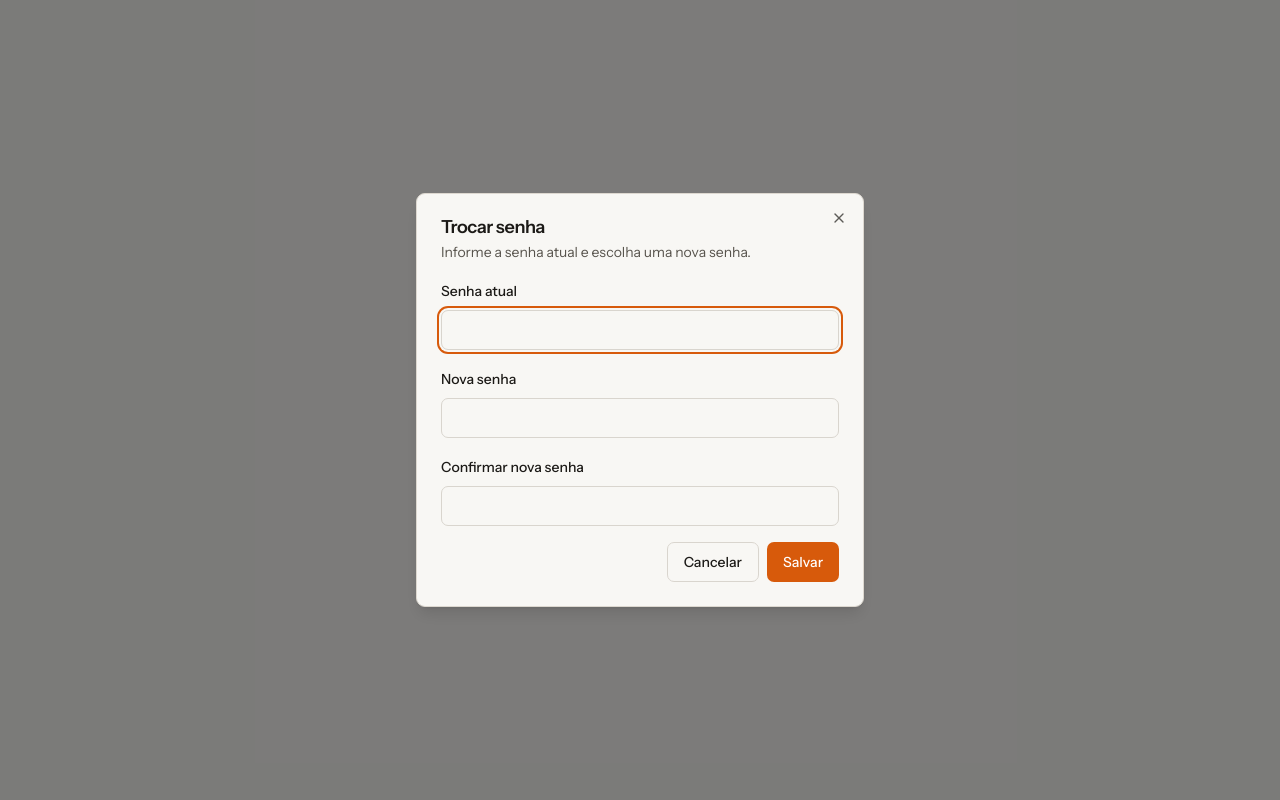
Scenario: TrocarSenhaDialog › 422: mapeia erro no campo senhaAtual
Type "atual123" into the password field labelled "Senha atual" at (640, 330), box [441,310,839,350]
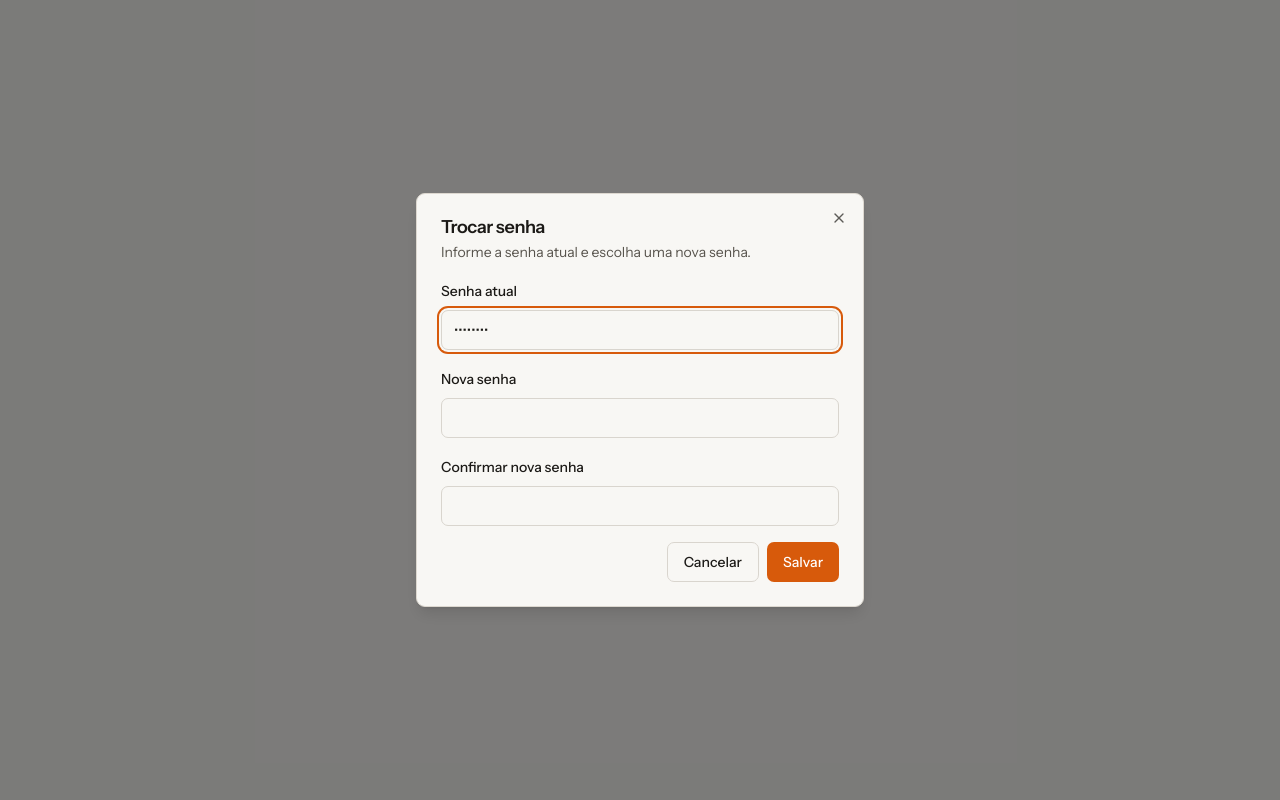
Type "novaSenha123" into the password field labelled "Nova senha" at (640, 418), box [441,398,839,438]
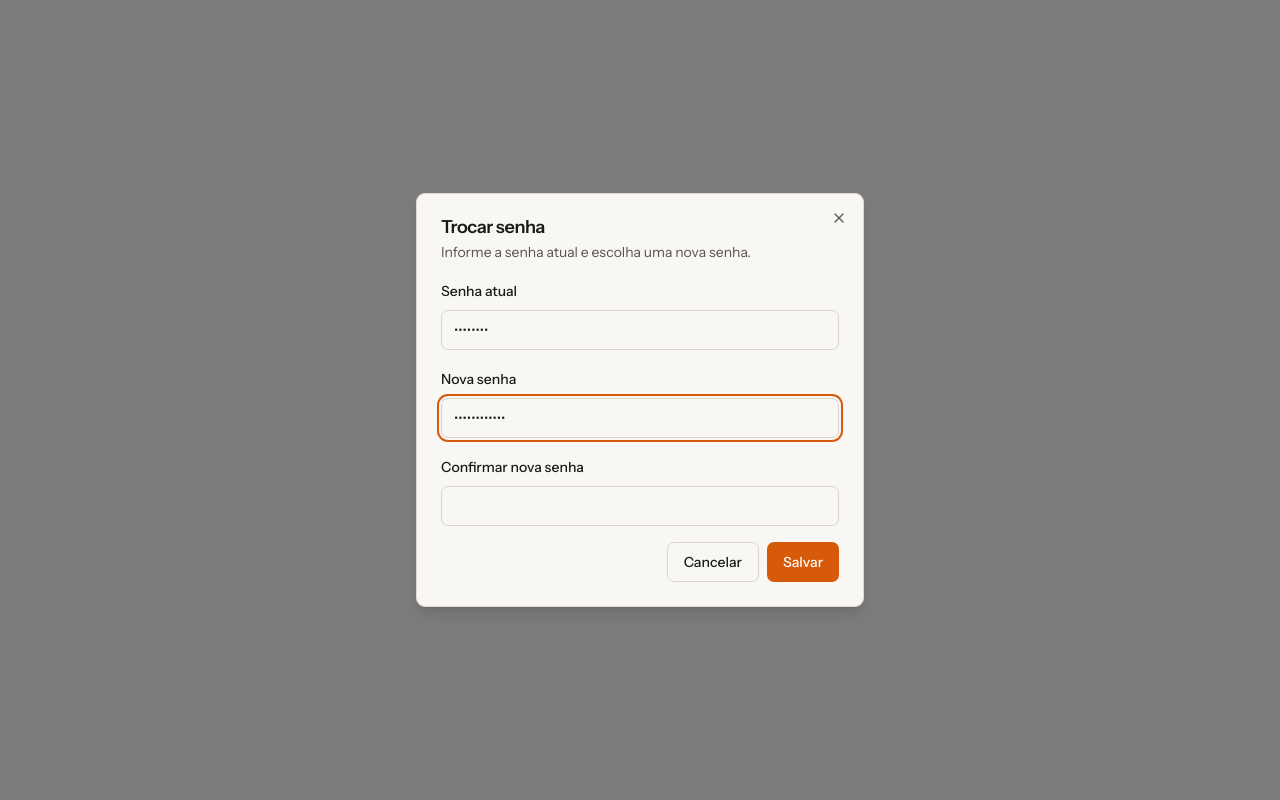
Type "novaSenha123" into the password field labelled "Confirmar nova senha" at (640, 506), box [441,486,839,526]
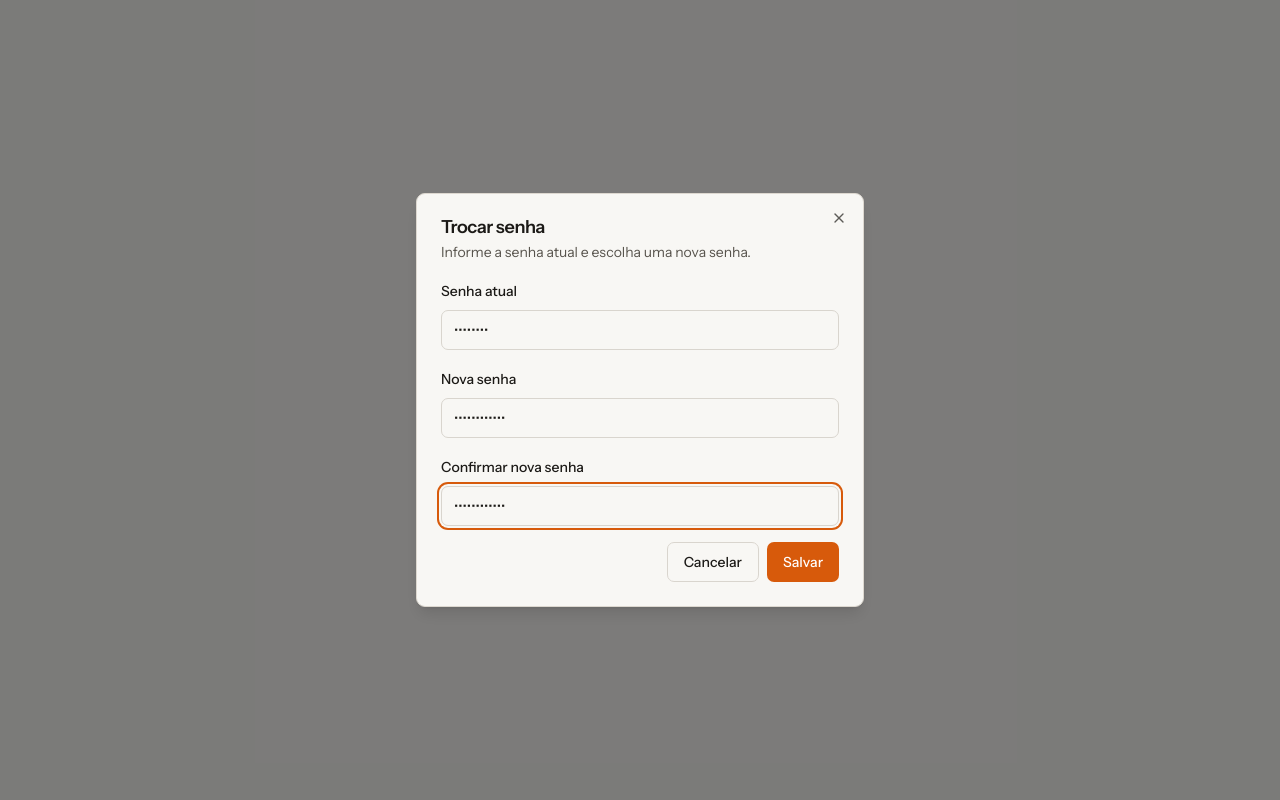
Click the button "Salvar" at (803, 562), box [767,542,839,582]
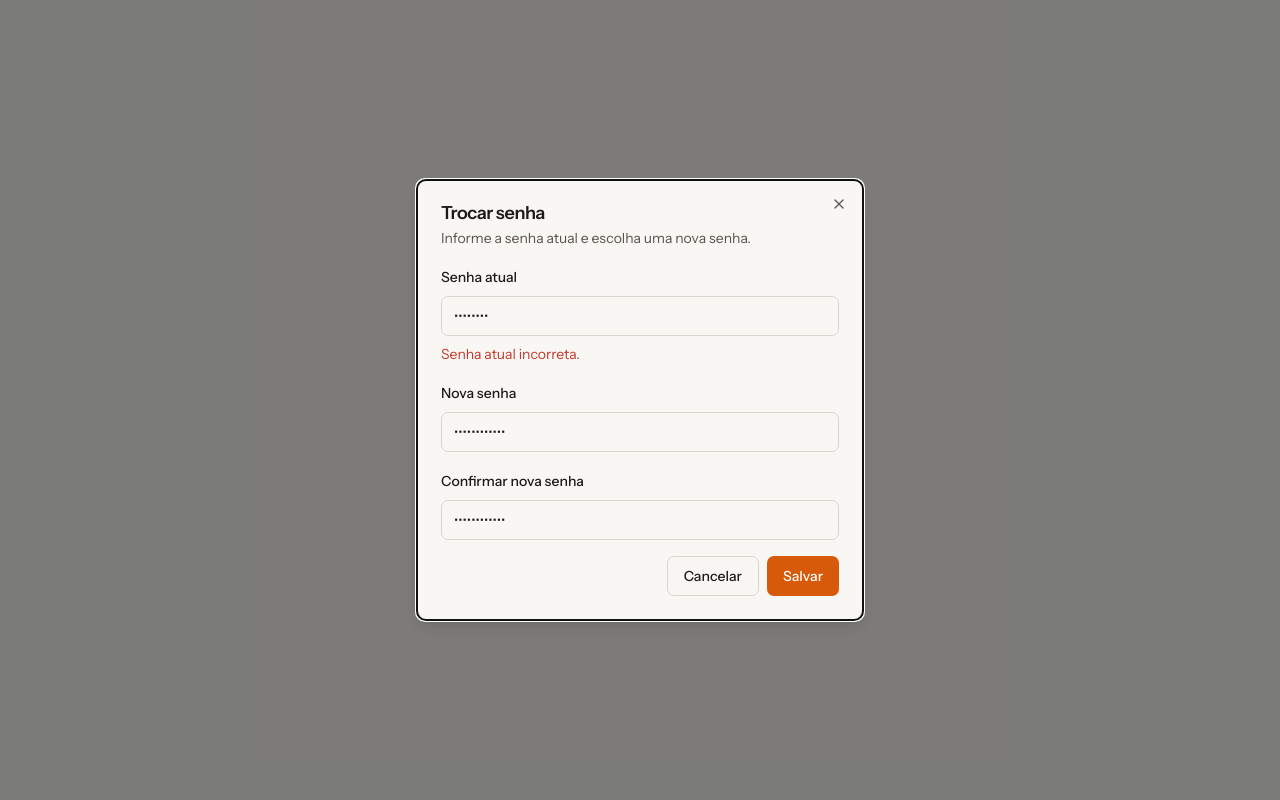
Expected: the text "Senha atual incorreta." is shown, [441,345,580,363]
